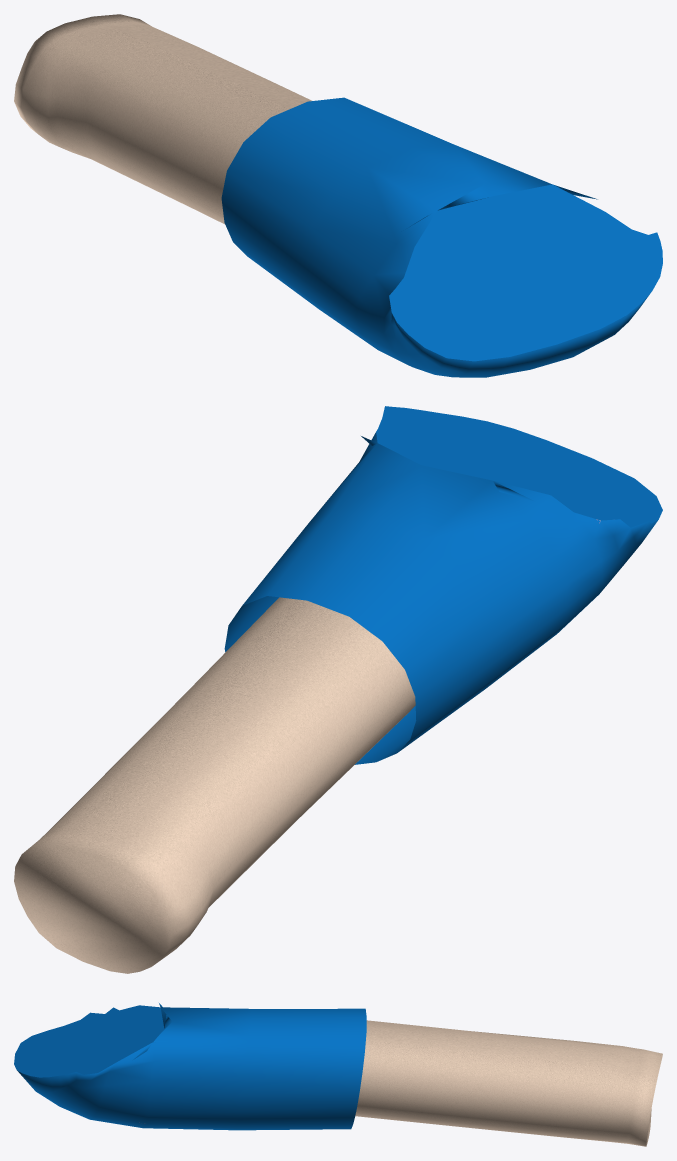
The model's file is r_arm.obj.
The picture shows the model from 3 angles, top to bottom: view 1: azimuth 30°, elevation 25°; view 2: azimuth 150°, elevation 25°; view 3: azimuth 270°, elevation 25°; orthographic projection. The views are drawn at different scales.
Visible parts, largest first — view 1: l_arm.001_Cube.000; view 2: l_arm.001_Cube.000; view 3: l_arm.001_Cube.000.
Boxes of the visible parts, bbox=[...] form: l_arm.001_Cube.000: bbox=[14, 14, 662, 377]; l_arm.001_Cube.000: bbox=[14, 406, 662, 973]; l_arm.001_Cube.000: bbox=[14, 1003, 662, 1146].
Bounding box in the file's own units: 0.0991 × 0.0731 × 0.3225.
1 material, 1 textured.
